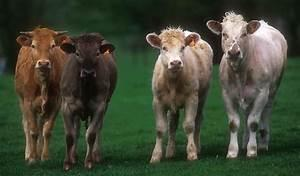cow: (205, 10, 288, 159), (145, 25, 214, 164), (58, 31, 117, 171), (14, 25, 71, 165)
